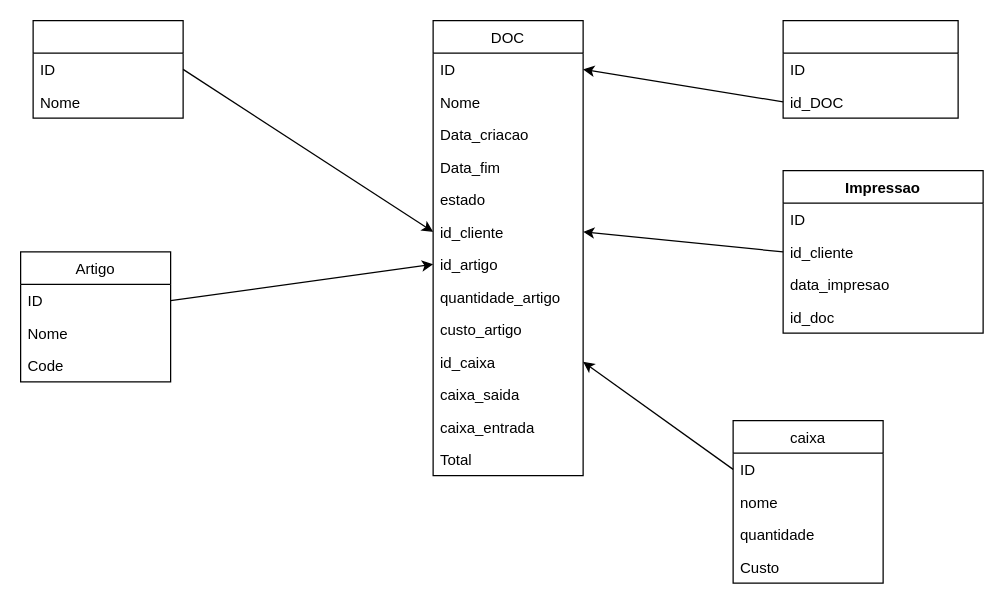
Some shapes in this 1004 by 604 pixel diagram are drawn without their labels. Each missing label, with the box of its shape:
Cliente: (32, 19, 183, 118)
Relatorios: (782, 19, 958, 118)
